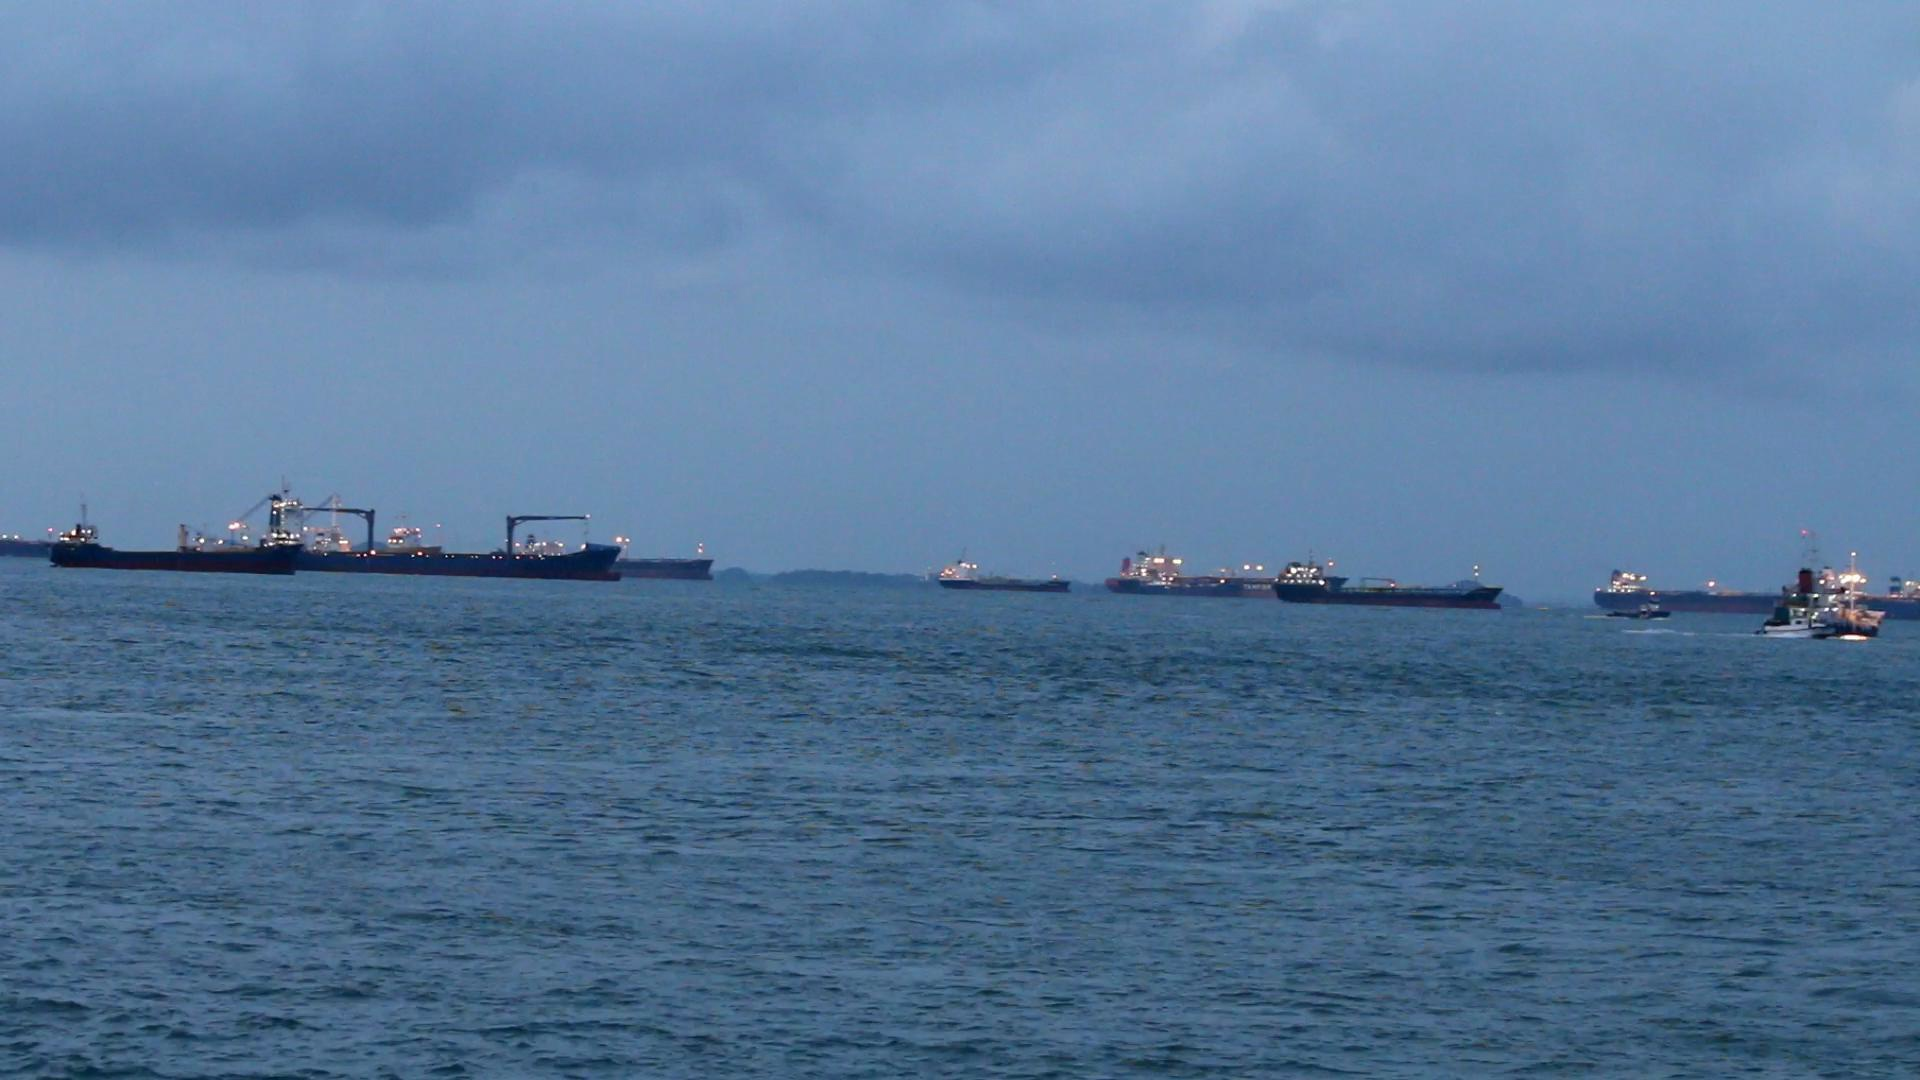Container Ship: (174, 487, 630, 582), (53, 498, 302, 576), (1763, 527, 1886, 641), (1102, 546, 1349, 599), (1271, 560, 1503, 609), (936, 556, 1072, 596), (615, 547, 719, 583), (1865, 576, 1920, 624), (0, 531, 54, 564)
